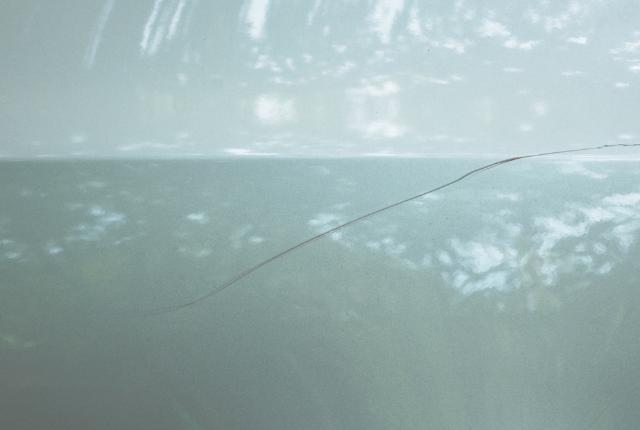scratch: (150, 140, 640, 317)
